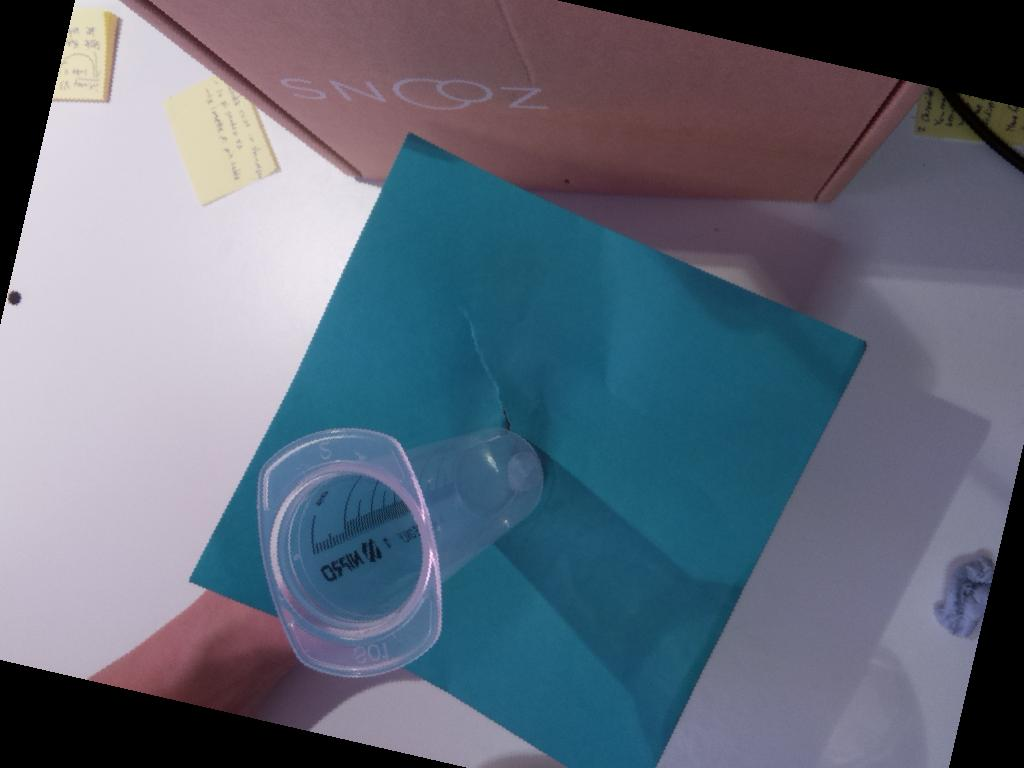clean: (256, 425, 443, 682)
